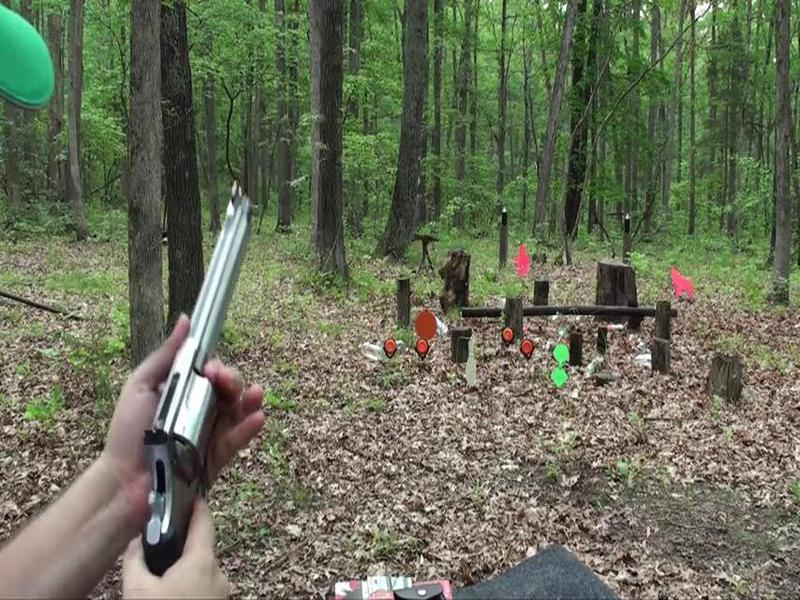Revolver: (129, 176, 256, 564)
